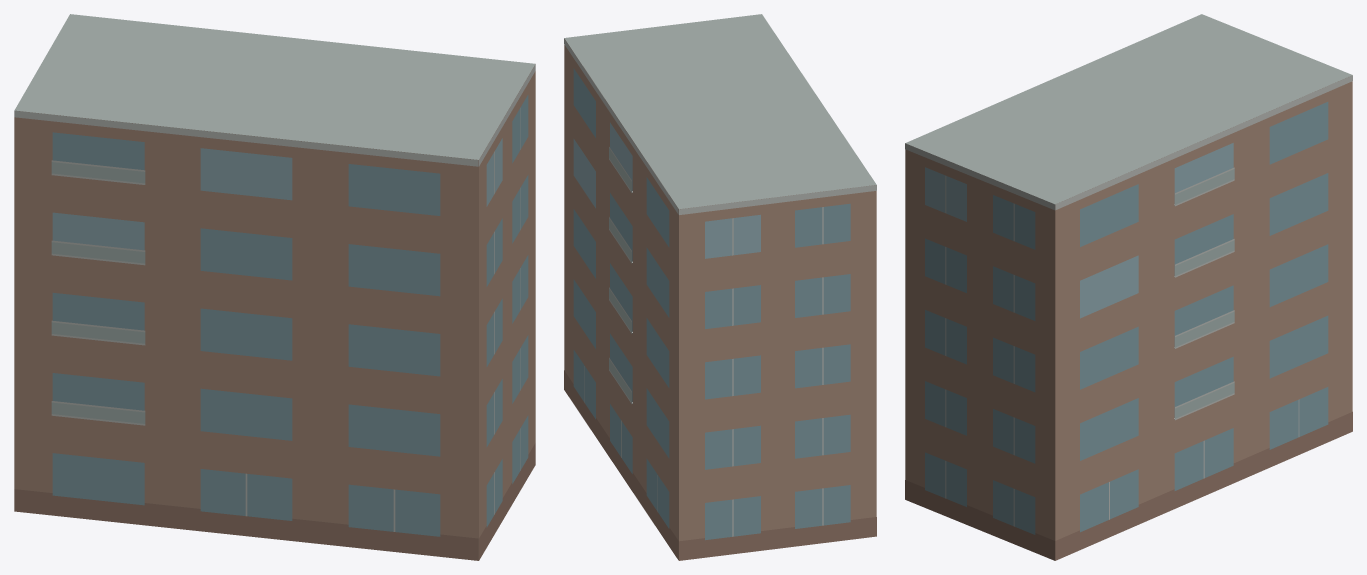
Rendered from survey-upis-33042034.glb.
3 renders of one model, left to right at view 1: azimuth 30°, elevation 25°; view 2: azimuth 150°, elevation 25°; view 3: azimuth 270°, elevation 25°, orthographic. The views are drawn at different scales.
Parts seen in each view (by area): view 1: survey-upis-33042034.tmp; view 2: survey-upis-33042034.tmp; view 3: survey-upis-33042034.tmp.
Boxes of the visible parts, left/top/right/bottom form: survey-upis-33042034.tmp: left=14, top=14, right=535, bottom=560; survey-upis-33042034.tmp: left=564, top=14, right=876, bottom=560; survey-upis-33042034.tmp: left=905, top=14, right=1352, bottom=560.
Size of the model in its own units: 16.5 by 14.4 by 16.4.
